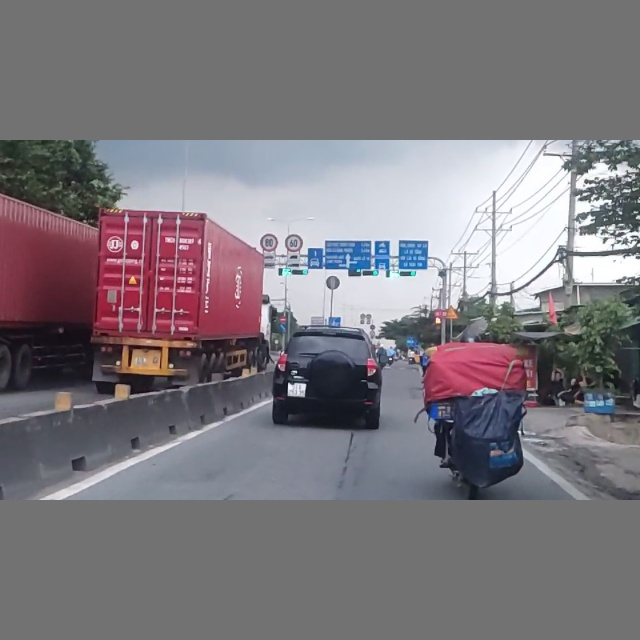P.102: (279, 315, 287, 323)
P.127*60: (285, 233, 303, 253)
P.127*80: (260, 233, 279, 252)
R.302a: (279, 324, 287, 331)
W.245a: (445, 305, 459, 319)
